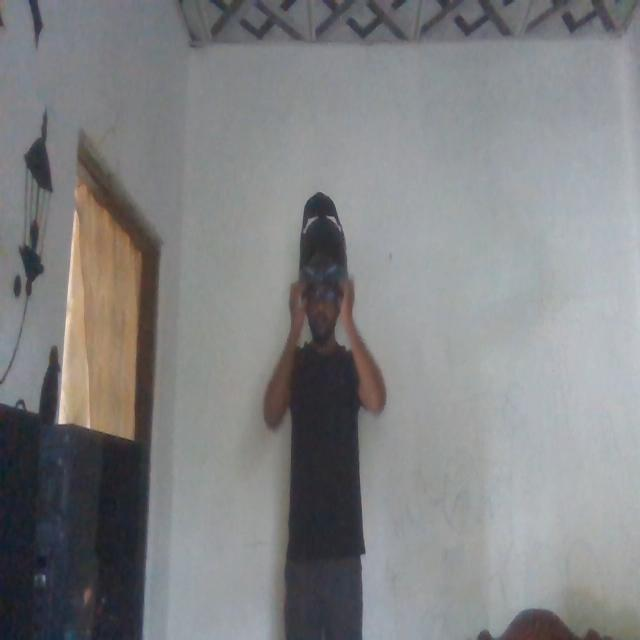Helmet_Wearer: (286, 188, 358, 374)
Person: (254, 238, 392, 636)
